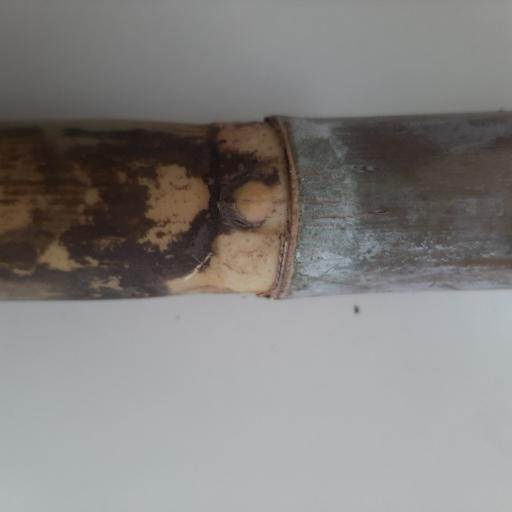Bud: (225, 178, 281, 225)
